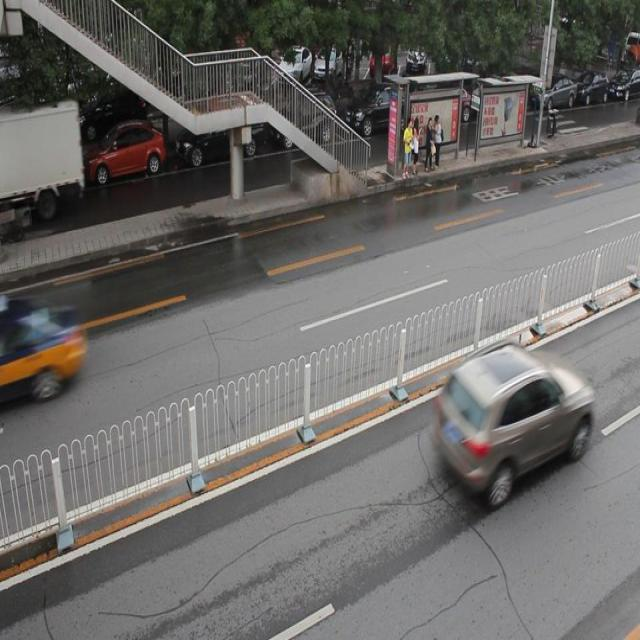bus: (0, 99, 84, 230)
car: (434, 340, 591, 500), (1, 305, 83, 413), (83, 122, 167, 186), (175, 106, 262, 165), (344, 80, 412, 139), (1, 137, 66, 197), (271, 94, 335, 150)
